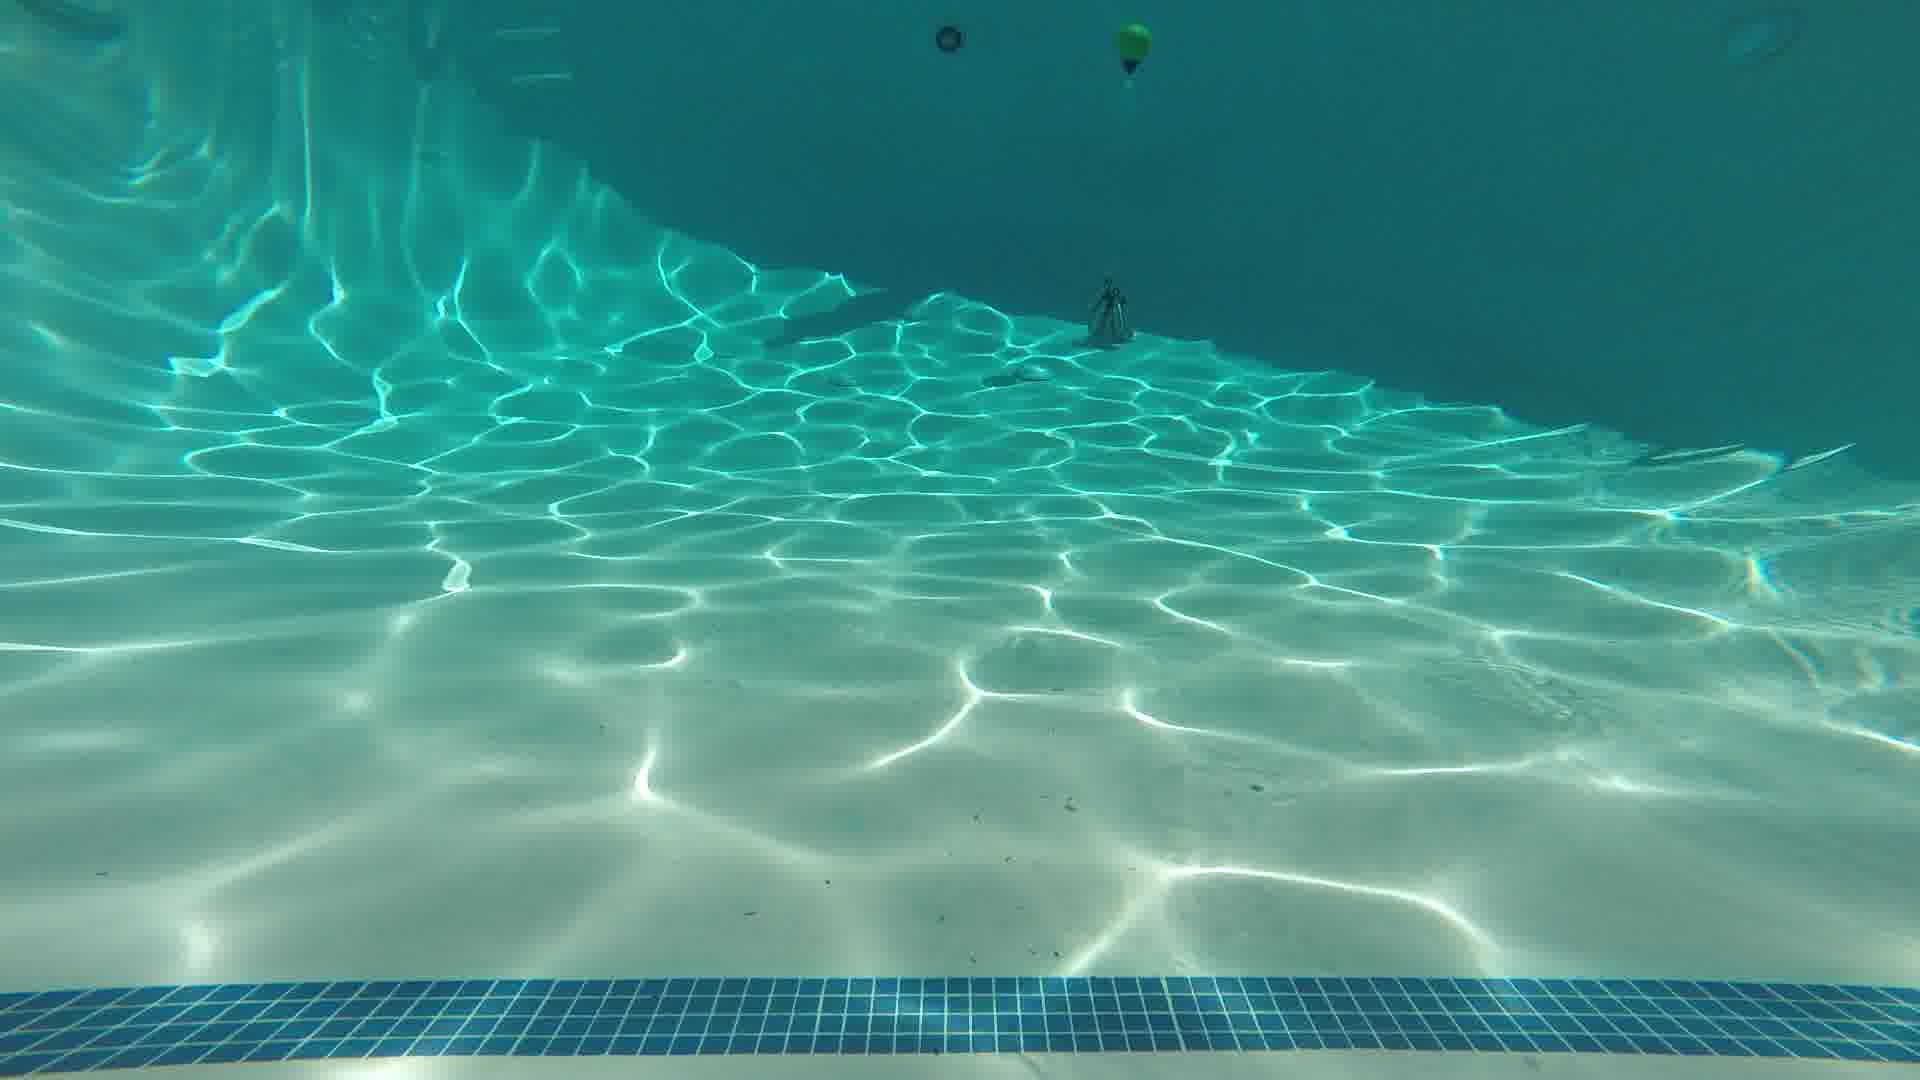yellow_buoy: (1116, 24, 1149, 76)
